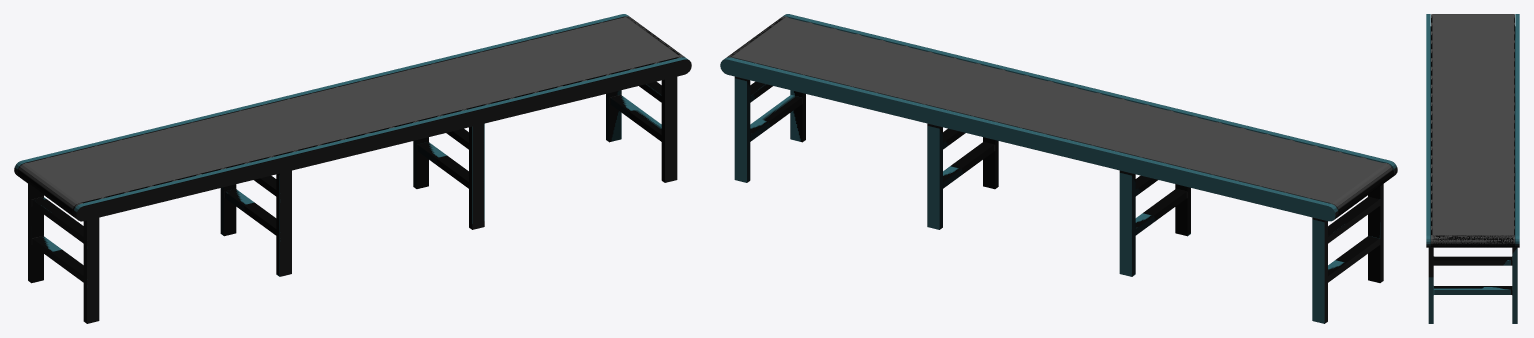
File: Conveyor.gltf
3 renders of one model, left to right at view 1: azimuth 30°, elevation 25°; view 2: azimuth 150°, elevation 25°; view 3: azimuth 270°, elevation 25°, orthographic. The views are drawn at different scales.
Parts seen in each view (by area): view 1: Conveyor; view 2: Conveyor; view 3: Conveyor.
Boxes of the visible parts, x1,y1,x2,y2 form: Conveyor: (14, 14, 691, 323); Conveyor: (720, 14, 1397, 323); Conveyor: (1426, 14, 1519, 323).
Size of the model in its own units: 639 by 119 by 112.
Materials: 1 (1 with a texture image).
